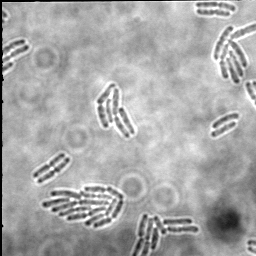Dividing: (36, 156, 72, 186), (32, 152, 67, 179), (2, 44, 30, 64), (195, 1, 237, 12), (2, 38, 26, 55), (196, 7, 231, 18)
Microcolony: (41, 184, 126, 229), (129, 214, 199, 256), (213, 22, 255, 84), (96, 82, 136, 139)
Rod: (211, 112, 241, 129), (210, 121, 237, 139)
